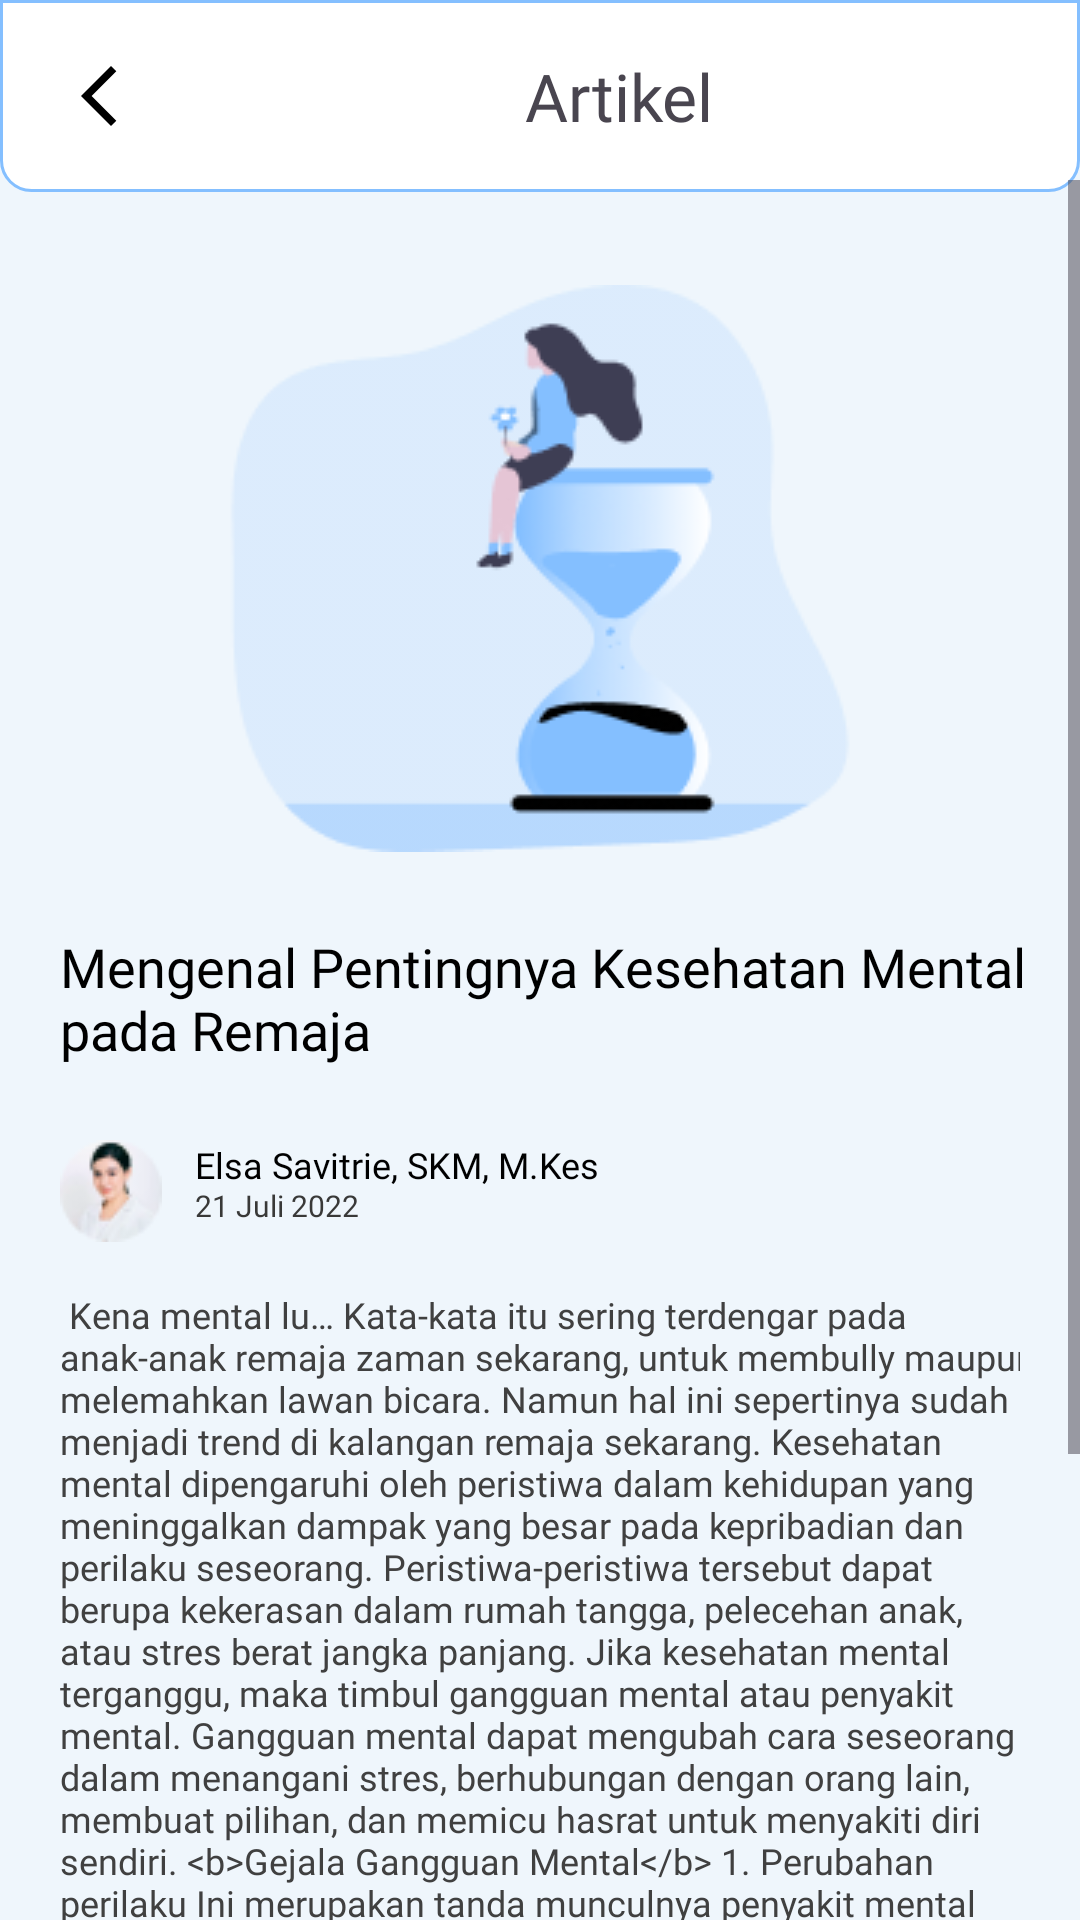

Screen size 1080 × 1920. Icon name, then its center in pixels as (x=x, y=y):
kembali: (x=98, y=96)
